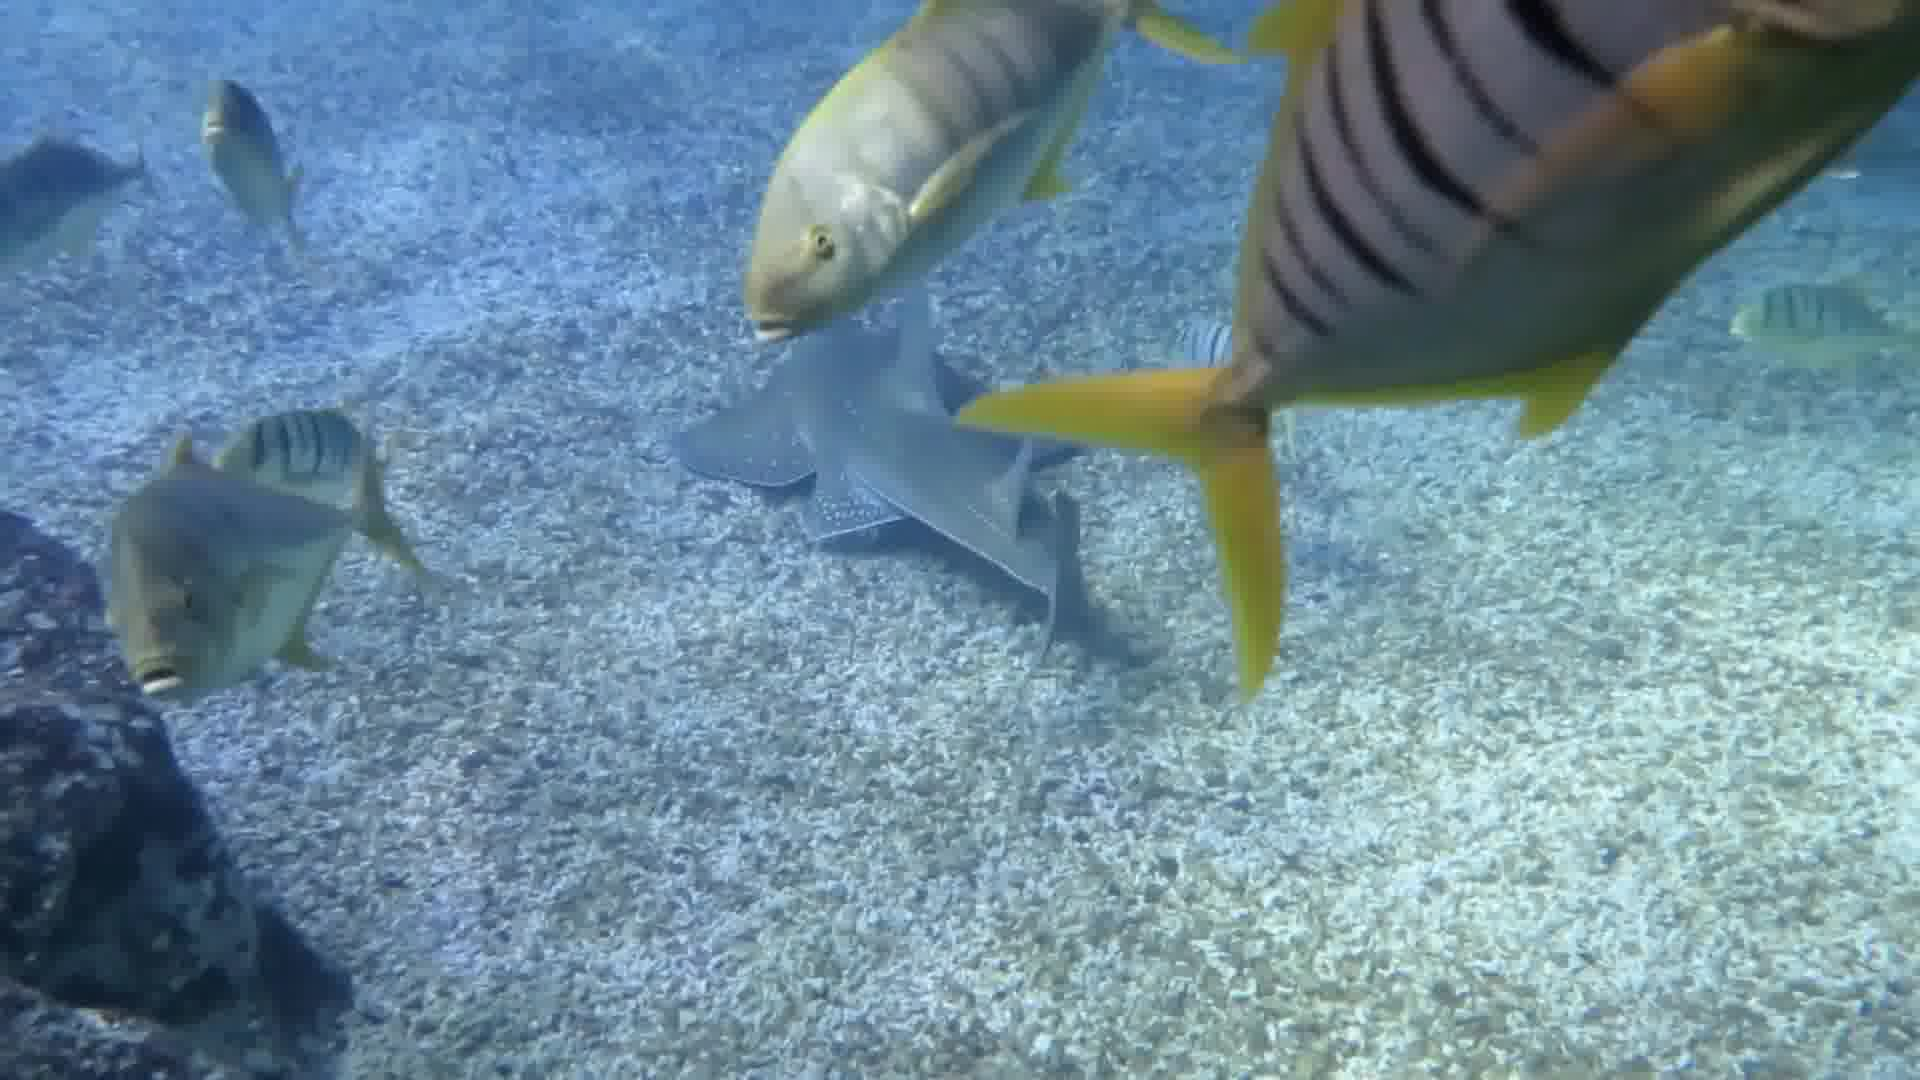Rhychobatus djiddensis: (732, 313, 1062, 592)
